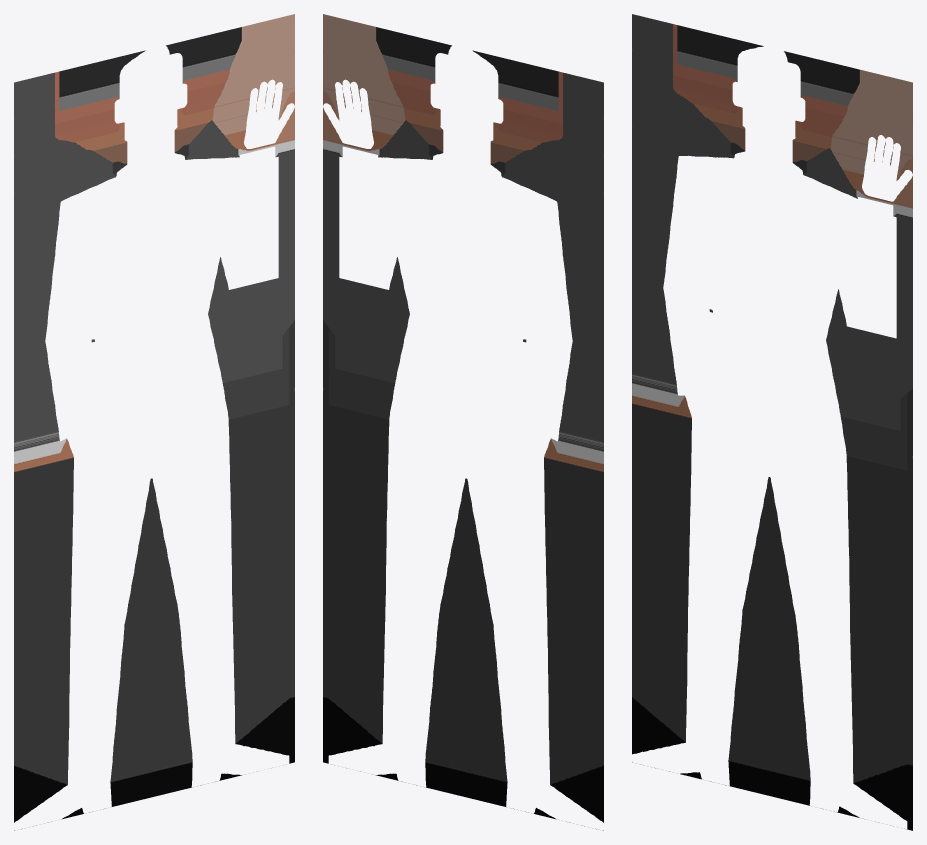
File: rick_2.dae
3 renders of one model, left to right at view 1: azimuth 30°, elevation 25°; view 2: azimuth 150°, elevation 25°; view 3: azimuth 330°, elevation 25°, orthographic.
Visible parts, largest first — view 1: Rick; view 2: Rick; view 3: Rick.
Boxes of the visible parts, left/top/right/bottom form: Rick: left=14, top=14, right=294, bottom=830; Rick: left=323, top=14, right=603, bottom=830; Rick: left=632, top=14, right=912, bottom=830.
Bounding box in the file's own units: 70.41 × 179 × 0.
